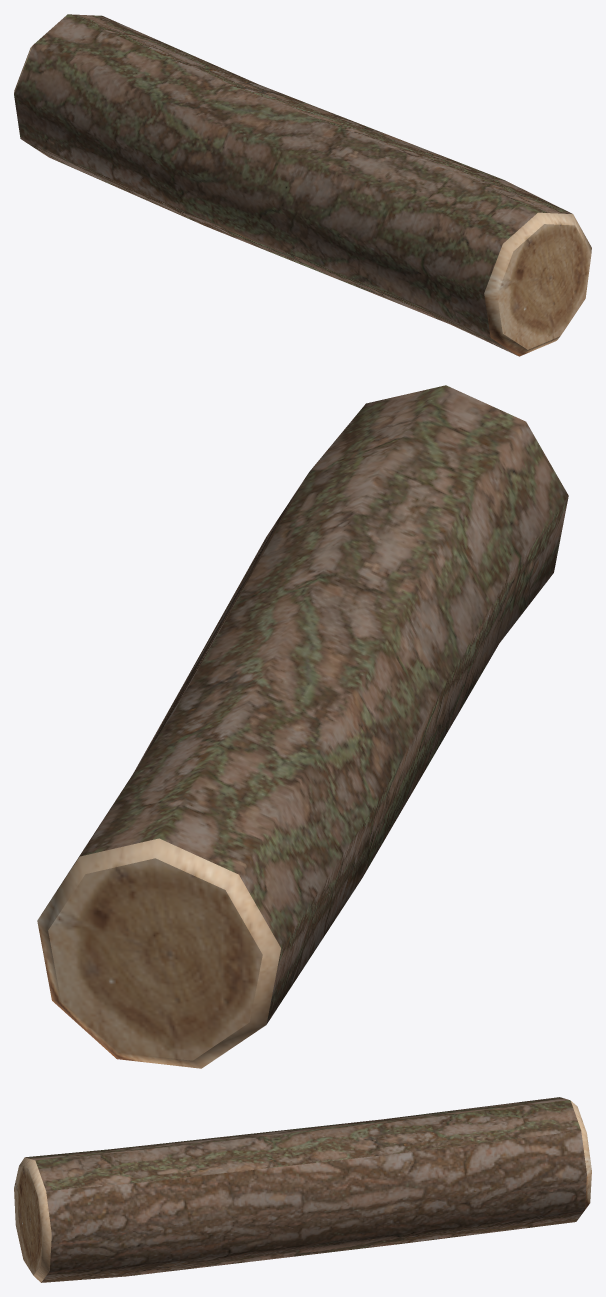
File: FlatShack284.gltf
3 views of the same model, one above another, from view 1: azimuth 30°, elevation 25°; view 2: azimuth 150°, elevation 25°; view 3: azimuth 270°, elevation 25° (orthographic). The views are drawn at different scales.
Parts seen in each view (by area): view 1: prop_Log_geo_026_bark_log_01_tx_0.001; view 2: prop_Log_geo_026_bark_log_01_tx_0.001; view 3: prop_Log_geo_026_bark_log_01_tx_0.001.
Boxes of the visible parts, <box> form: prop_Log_geo_026_bark_log_01_tx_0.001: <box>14,14,591,356</box>; prop_Log_geo_026_bark_log_01_tx_0.001: <box>37,385,568,1068</box>; prop_Log_geo_026_bark_log_01_tx_0.001: <box>14,1097,591,1282</box>.
Size of the model in its own units: 0.2923 by 0.1408 by 0.6358.
Materials: 1 (1 with a texture image).
